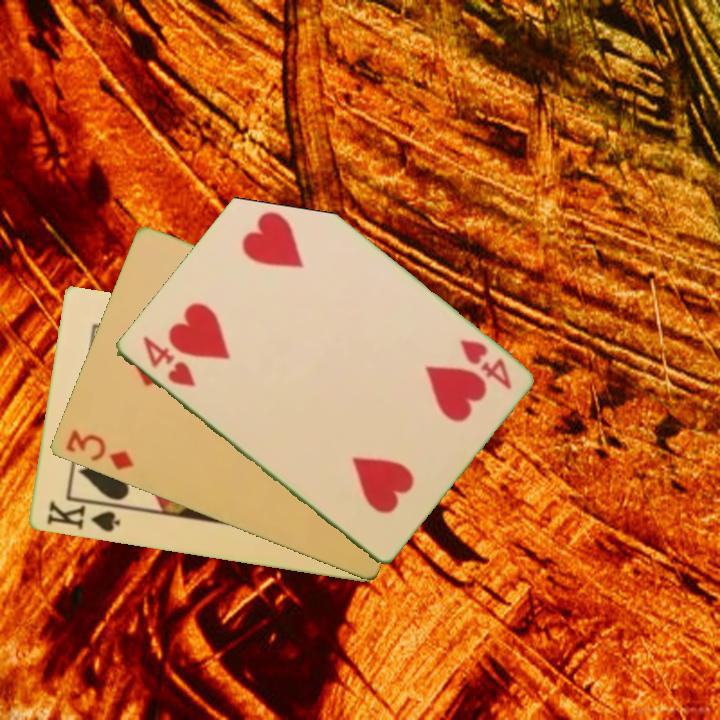3d: (61, 426, 136, 474)
4h: (138, 332, 198, 390), (455, 335, 515, 393)
Ks: (43, 496, 124, 535)
